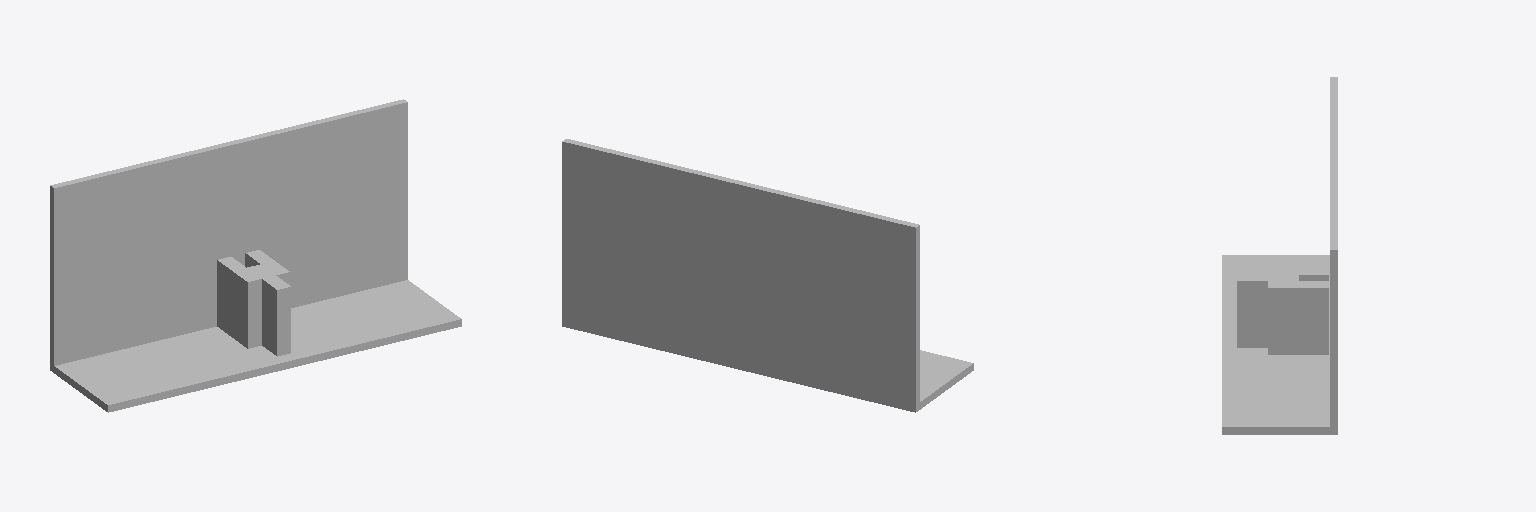
File: books-shelf-3.obj
3 renders of one model, left to right at view 1: azimuth 30°, elevation 25°; view 2: azimuth 150°, elevation 25°; view 3: azimuth 270°, elevation 25°, orthographic.
Parts seen in each view (by area): view 1: Object.2, Object.1, Object.4, Object.3, Object.5; view 2: Object.2, Object.1; view 3: Object.1, Object.5, Object.2, Object.3, Object.4.
Part boxes in pixels (x1,y1,x2,y2): Object.2: (50,99,407,372); Object.1: (54,280,461,412); Object.4: (217,257,261,348); Object.3: (247,264,290,356); Object.5: (245,250,289,284); Object.2: (562,139,919,412); Object.1: (920,350,973,409); Object.1: (1222,255,1329,434); Object.5: (1268,281,1328,354); Object.2: (1330,77,1337,434); Object.3: (1237,275,1298,347); Object.4: (1268,268,1328,280).
Bounding box in the file's own units: 1000 × 500 × 283.